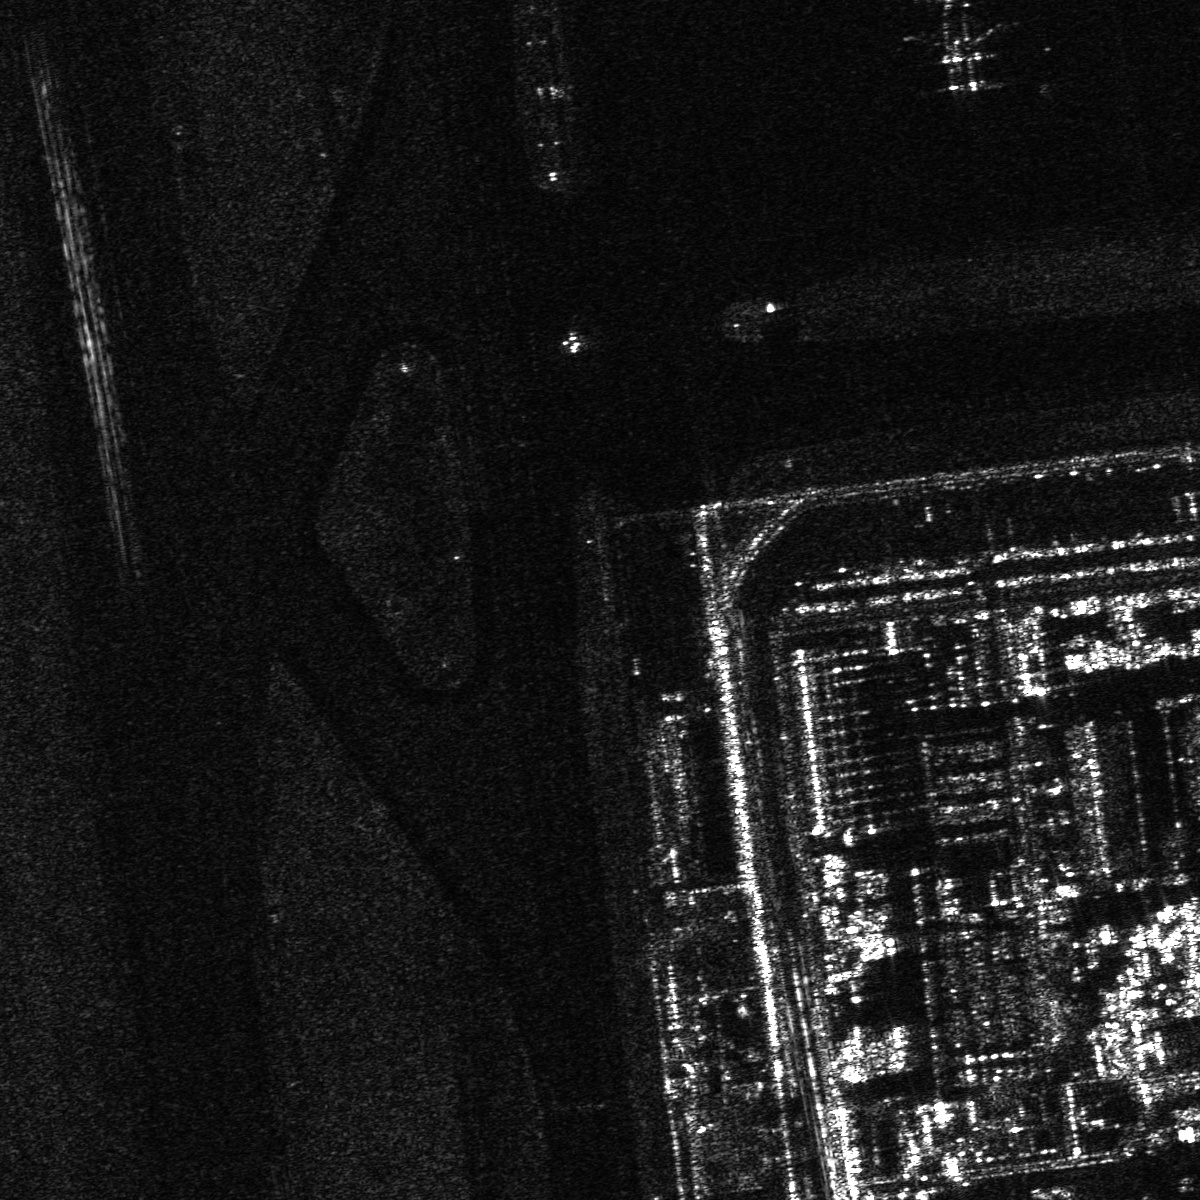A330: (909, 1, 1016, 91)
